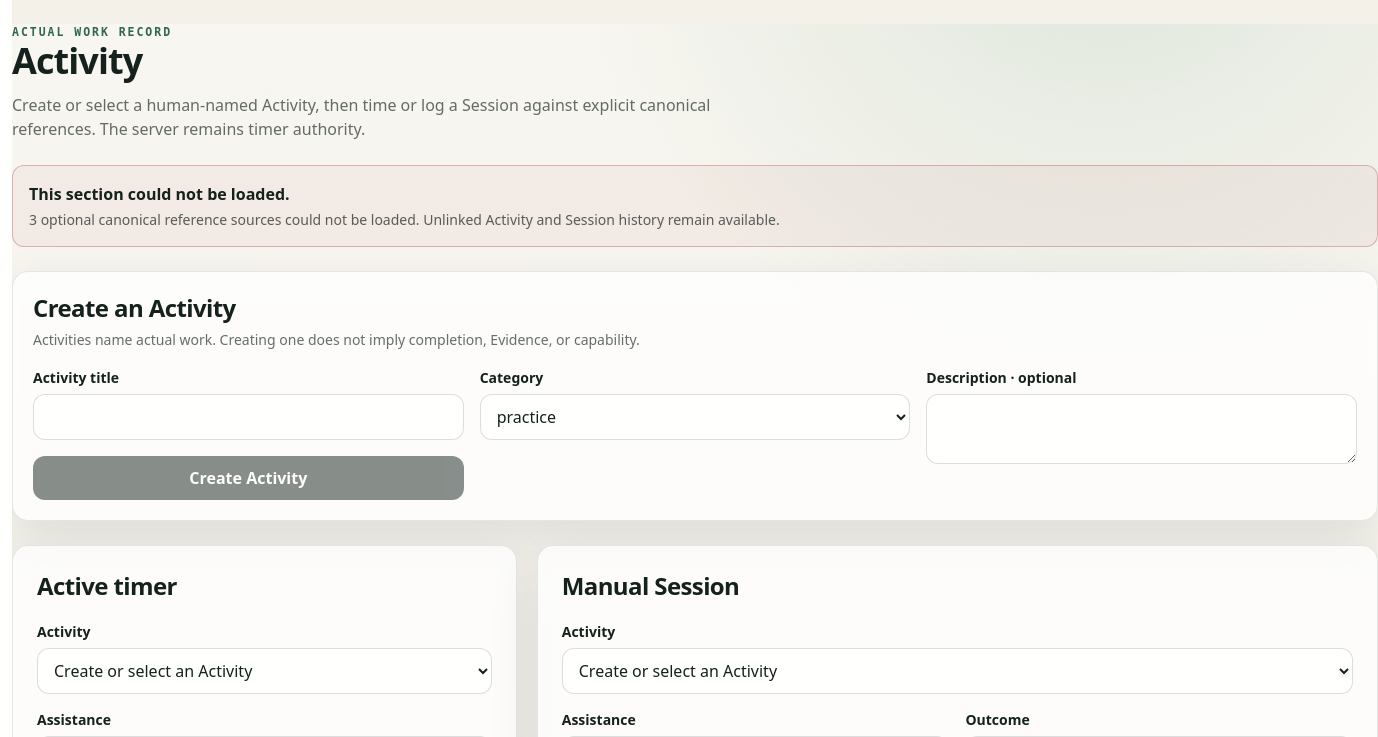
Scenario: Checkpoint 4 section isolation and cancellation › keeps unlinked Activity and Session work available when optional canonical reference sources fail
The image size is (1378, 737).
Expected: the heading "Activity" is shown, [12, 36, 142, 85]
Expected: the text "optional canonical reference sources could not be loaded" is shown, [29, 210, 780, 229]
In the field labelled "Activity title": {"x": 248, "y": 417} [33, 394, 464, 440], type "Independent work"
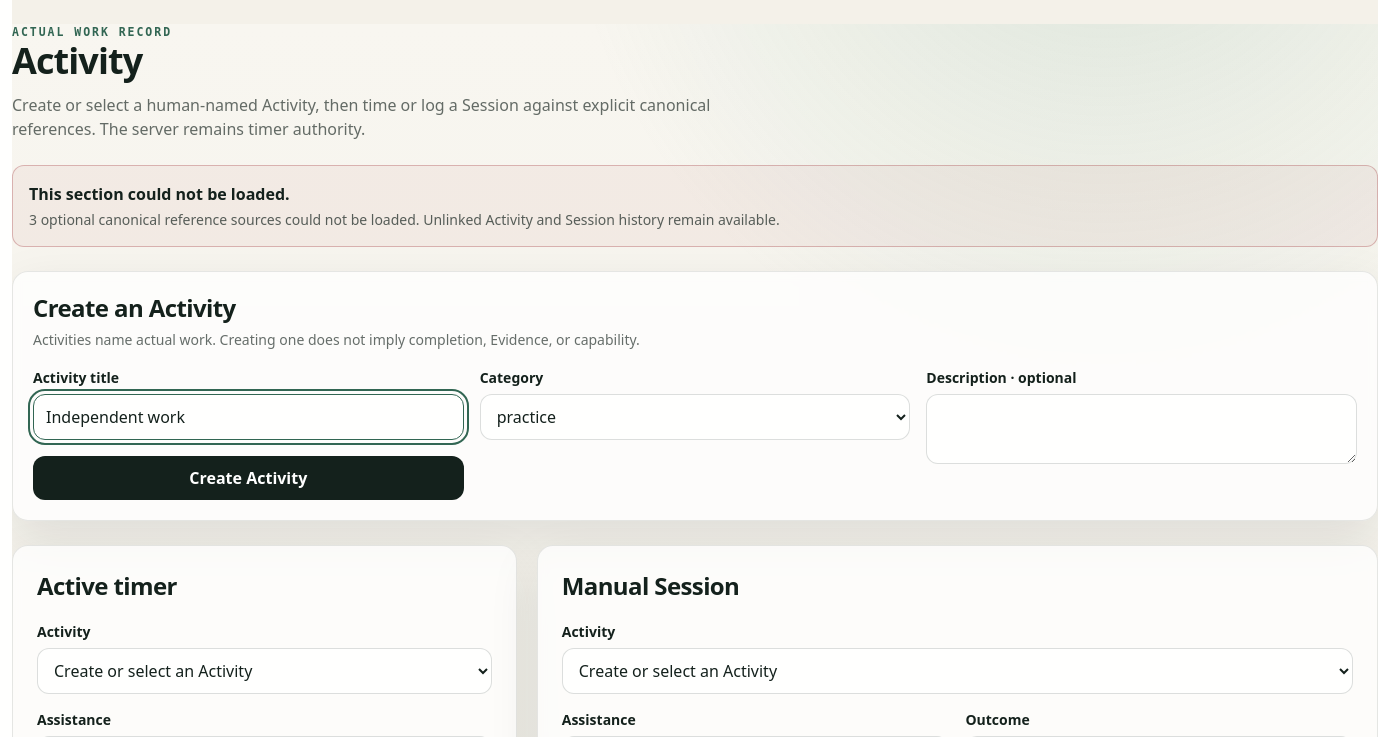
Expected: the button "Create Activity" is enabled, [33, 456, 464, 500]
